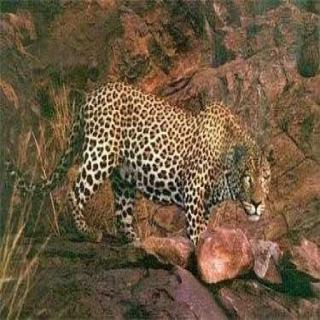Leopard: (71, 60, 295, 251)
